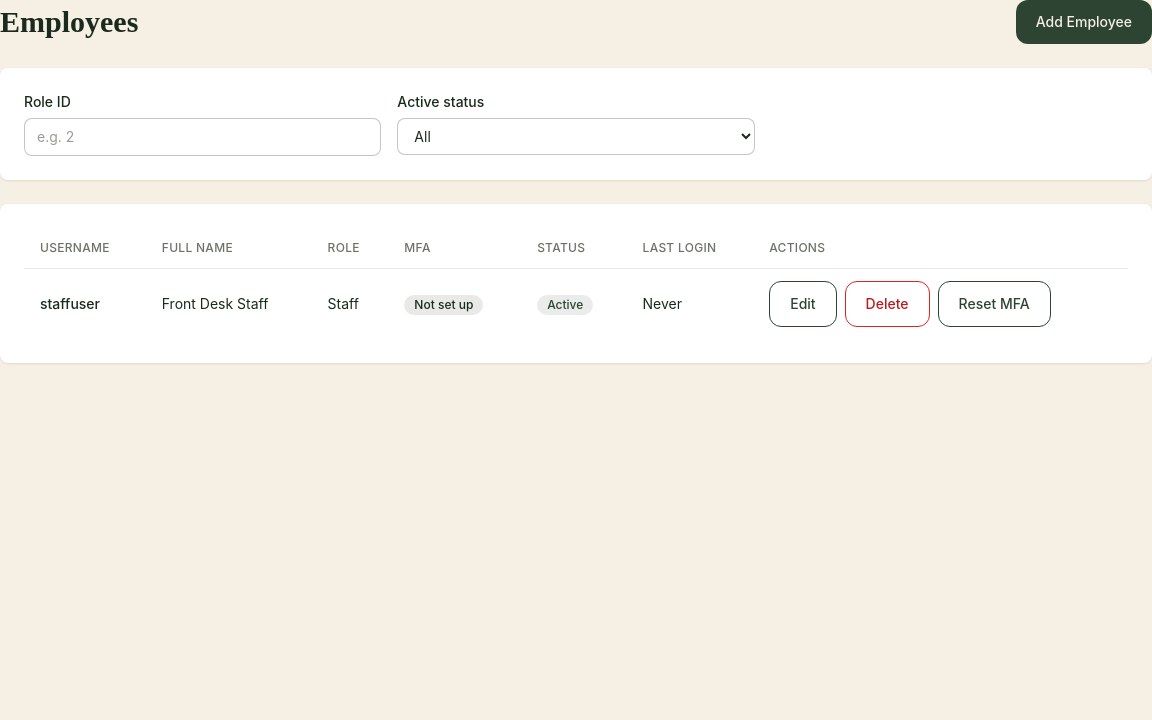
Test: EmployeesPage self-lockout protection › admin resetting another employee MFA shows the new QR/backup codes for that employee
This screenshot has width=1152, height=720.
Check: the text "staffuser" is shown, box [24,268,146,339]
Step 1. Click the button "Reset MFA" → (994, 304), box [938,281,1050,327]
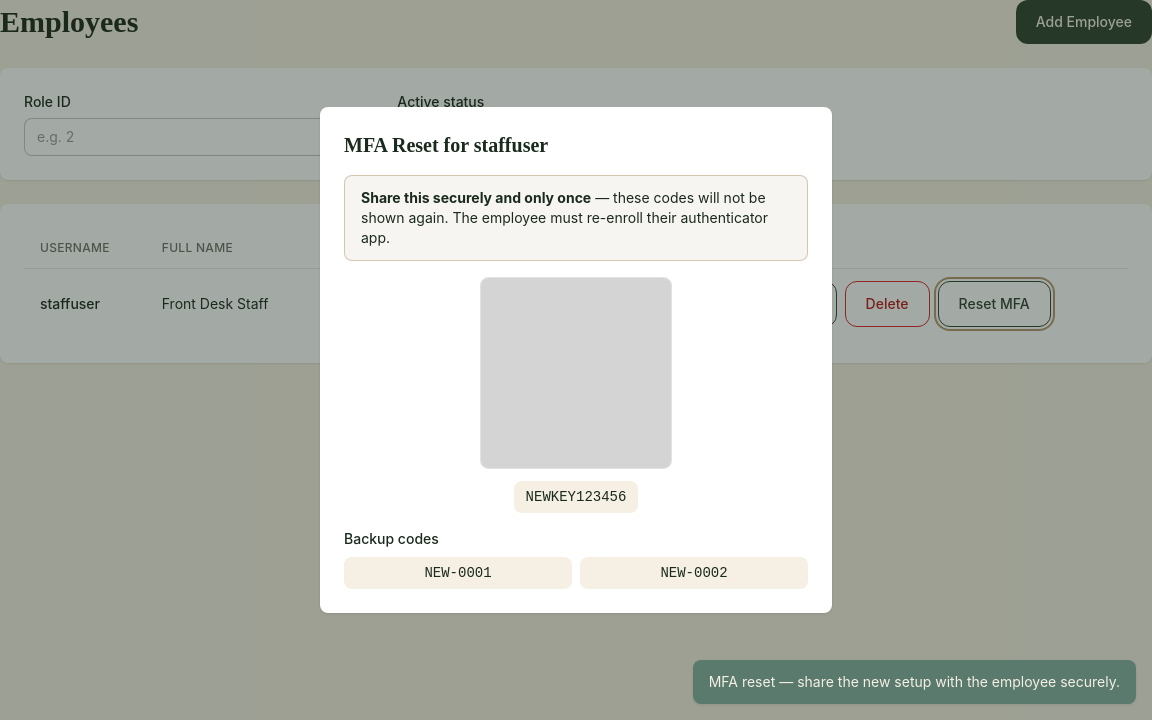
Check: the text "NEWKEY123456" is shown, box [514,481,638,513]
Check: the list item "NEW-0001" is shown, box [344,557,572,589]
Check: the heading "MFA Reset for staffuser" is shown, box [344,134,548,156]
